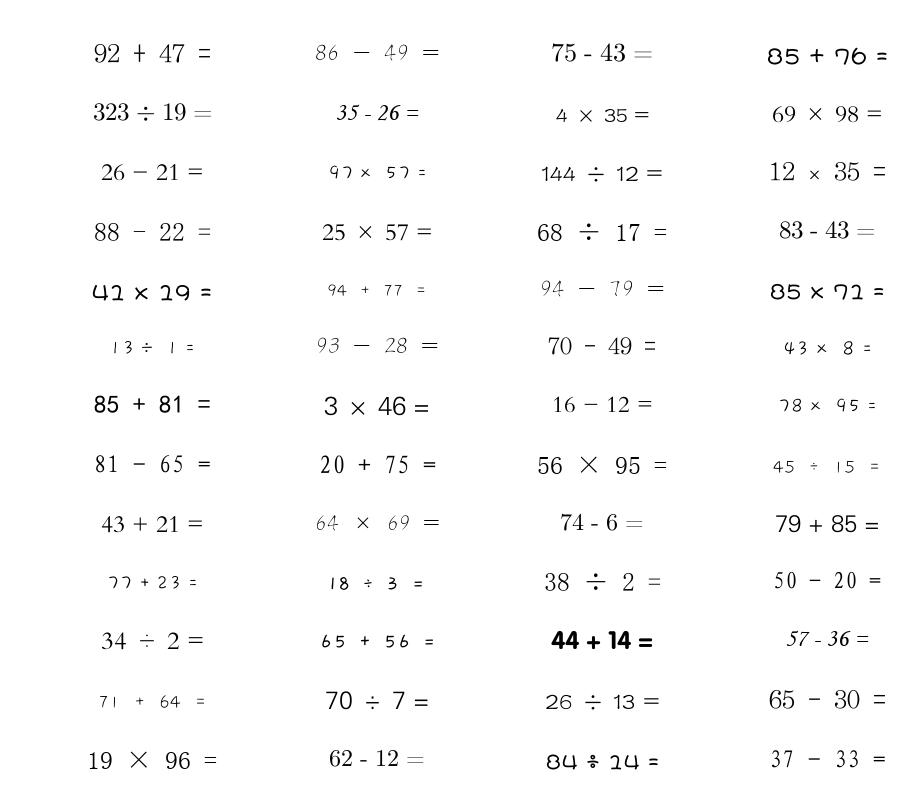MQ: (94, 43, 211, 63), (769, 161, 886, 181), (537, 223, 667, 241), (537, 456, 667, 474), (769, 689, 886, 709), (87, 751, 217, 769), (319, 455, 436, 474), (767, 47, 888, 65), (93, 103, 212, 121), (315, 44, 440, 61), (540, 280, 665, 297), (324, 396, 430, 416), (94, 223, 211, 241), (94, 395, 211, 413), (94, 455, 211, 473), (544, 573, 661, 591), (769, 750, 886, 768), (92, 284, 212, 301), (551, 630, 653, 650), (315, 515, 440, 531), (325, 691, 429, 710), (316, 337, 439, 353), (770, 283, 885, 300), (541, 166, 663, 182), (548, 337, 656, 355), (773, 571, 881, 589), (551, 43, 653, 62), (775, 515, 880, 533), (772, 106, 883, 123), (322, 224, 433, 241), (101, 632, 204, 650), (545, 694, 660, 710), (546, 754, 659, 770), (101, 164, 204, 181), (101, 516, 204, 533), (779, 221, 875, 239), (329, 749, 425, 767), (552, 396, 653, 413), (319, 634, 436, 648), (98, 695, 207, 709), (773, 460, 881, 474), (560, 513, 644, 531), (328, 165, 427, 180), (778, 398, 877, 413), (335, 104, 419, 121), (785, 630, 869, 647), (556, 108, 649, 123), (107, 575, 198, 590), (783, 341, 872, 356), (327, 284, 427, 297), (109, 340, 195, 355), (329, 577, 425, 590)
